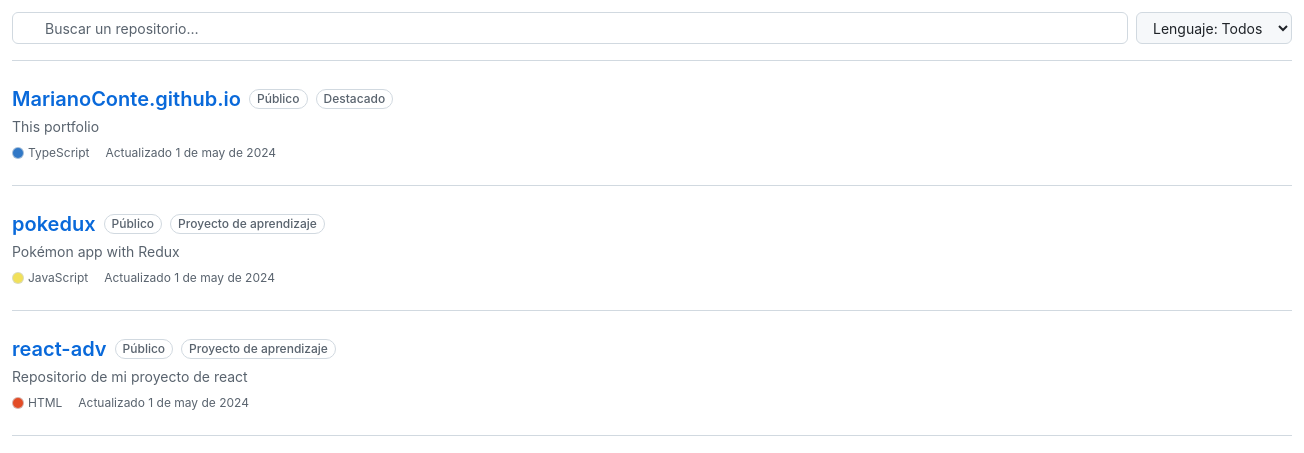
RepoList › shows an empty state in Spanish
The image size is (1304, 453).
Type "nada que ver" into the search field labelled "Buscar un repositorio…".
click(570, 28); type("nada que ver")  # box [12, 12, 1128, 44]
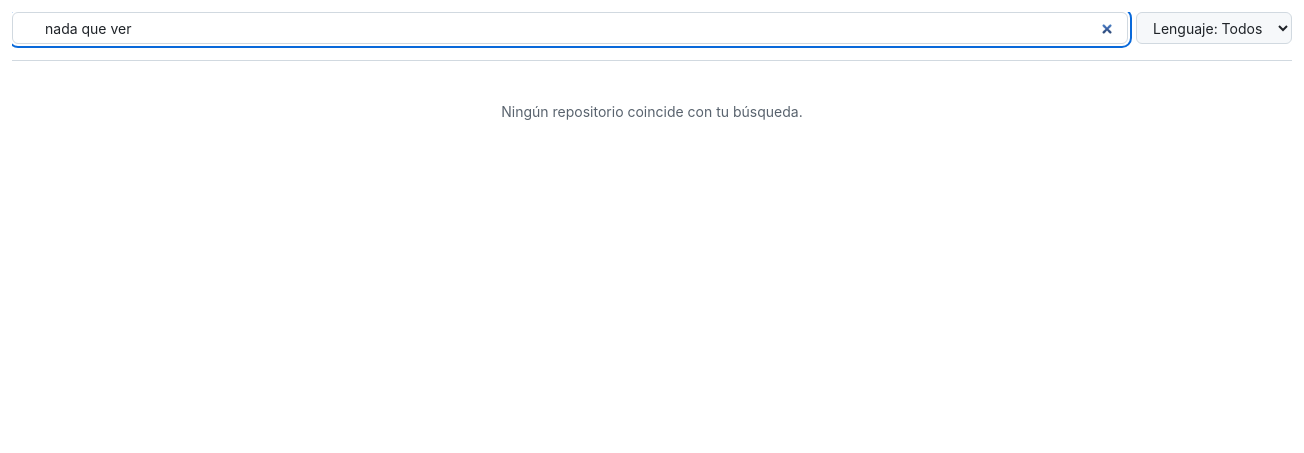
Expected: the text "Ningún repositorio coincide con tu búsqueda." is shown, [501, 103, 803, 120]
